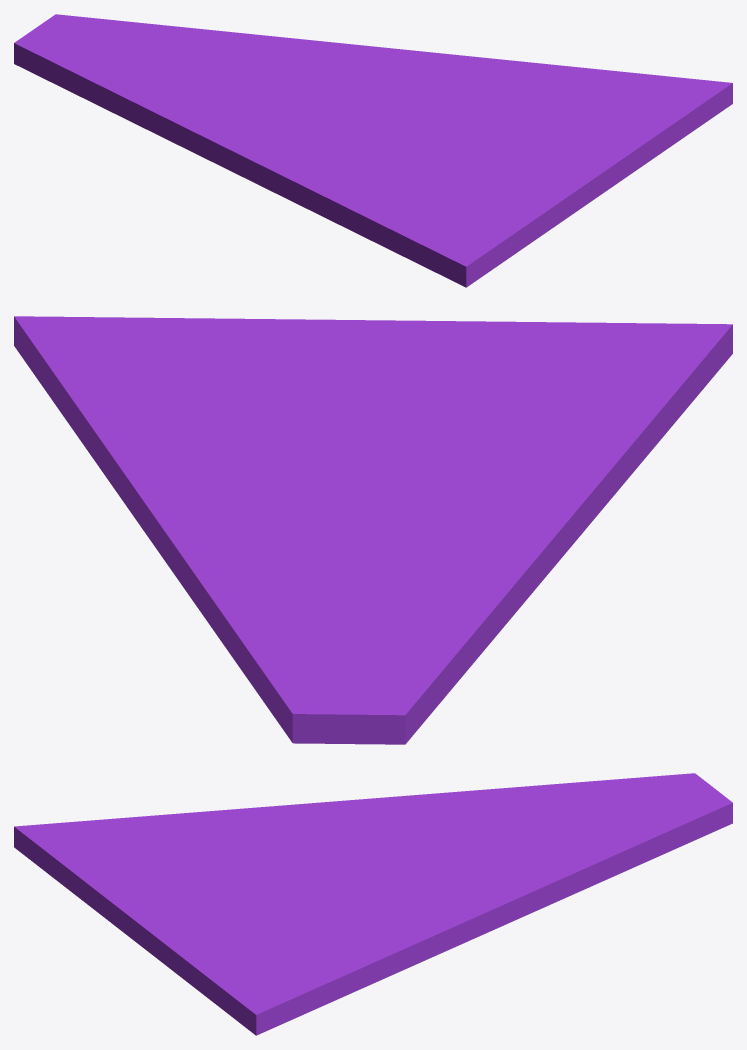
The model's file is StairsStep_45_chunks.fbx.
The picture shows the model from 3 angles, top to bottom: view 1: azimuth 30°, elevation 25°; view 2: azimuth 150°, elevation 25°; view 3: azimuth 270°, elevation 25°; orthographic projection. The views are drawn at different scales.
Visible parts, largest first — view 1: StairsStep_45_0, StairsStep_45_2, StairsStep_45_3; view 2: StairsStep_45_0, StairsStep_45_2, StairsStep_45_3; view 3: StairsStep_45_0, StairsStep_45_2, StairsStep_45_3.
Boxes of the visible parts, box(x1,y1,x2,y2) form: StairsStep_45_0: box(219, 103, 659, 287); StairsStep_45_2: box(259, 35, 732, 153); StairsStep_45_3: box(14, 14, 321, 164); StairsStep_45_0: box(215, 318, 732, 566); StairsStep_45_2: box(14, 316, 360, 622); StairsStep_45_3: box(209, 514, 558, 744); StairsStep_45_0: box(14, 798, 419, 983); StairsStep_45_2: box(188, 855, 593, 1035); StairsStep_45_3: box(377, 773, 732, 878).
Size of the model in its own units: 447 by 17.94 by 562.
